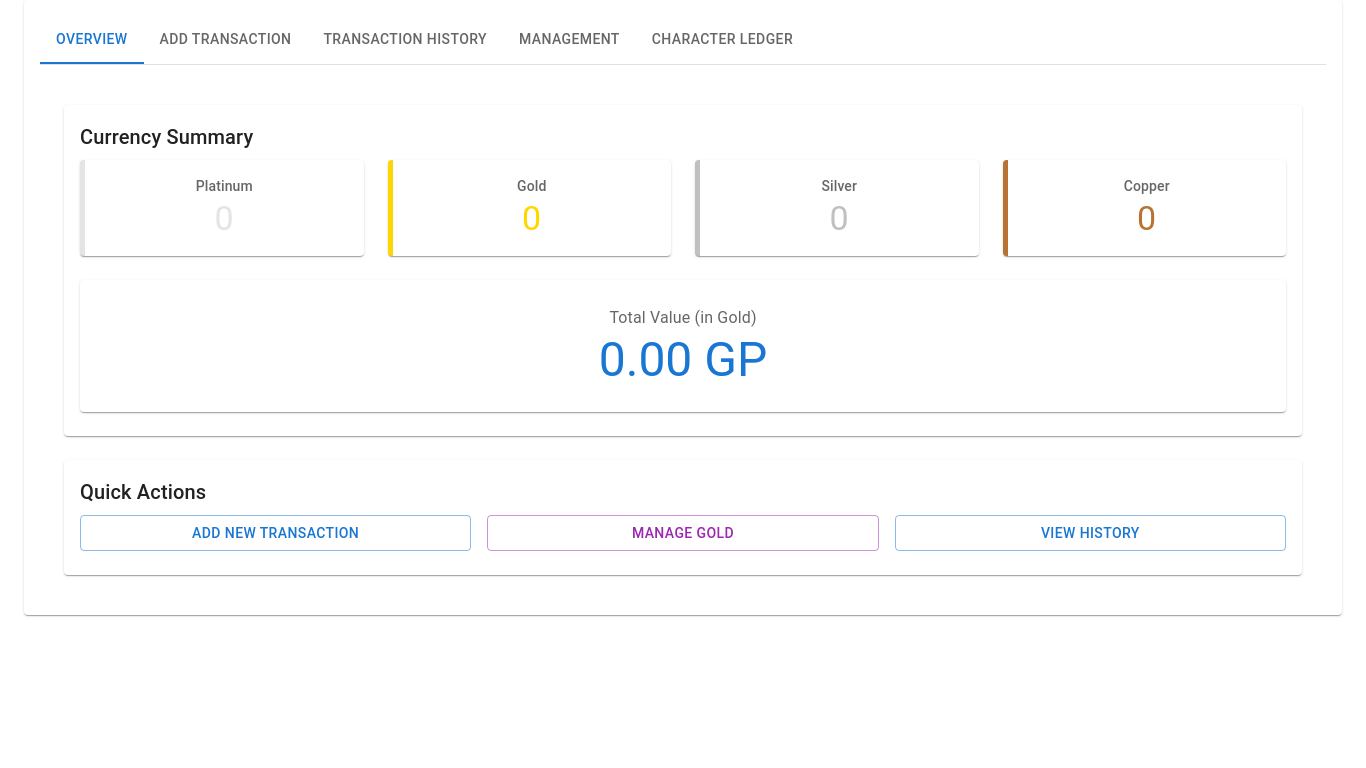
it: GoldTransactions › Character Ledger tab › shows the loot value, payments, withdrawn and balance from the ledger
The image size is (1366, 768).
Click the tab "Character Ledger": (722, 40) [636,16,809,64]
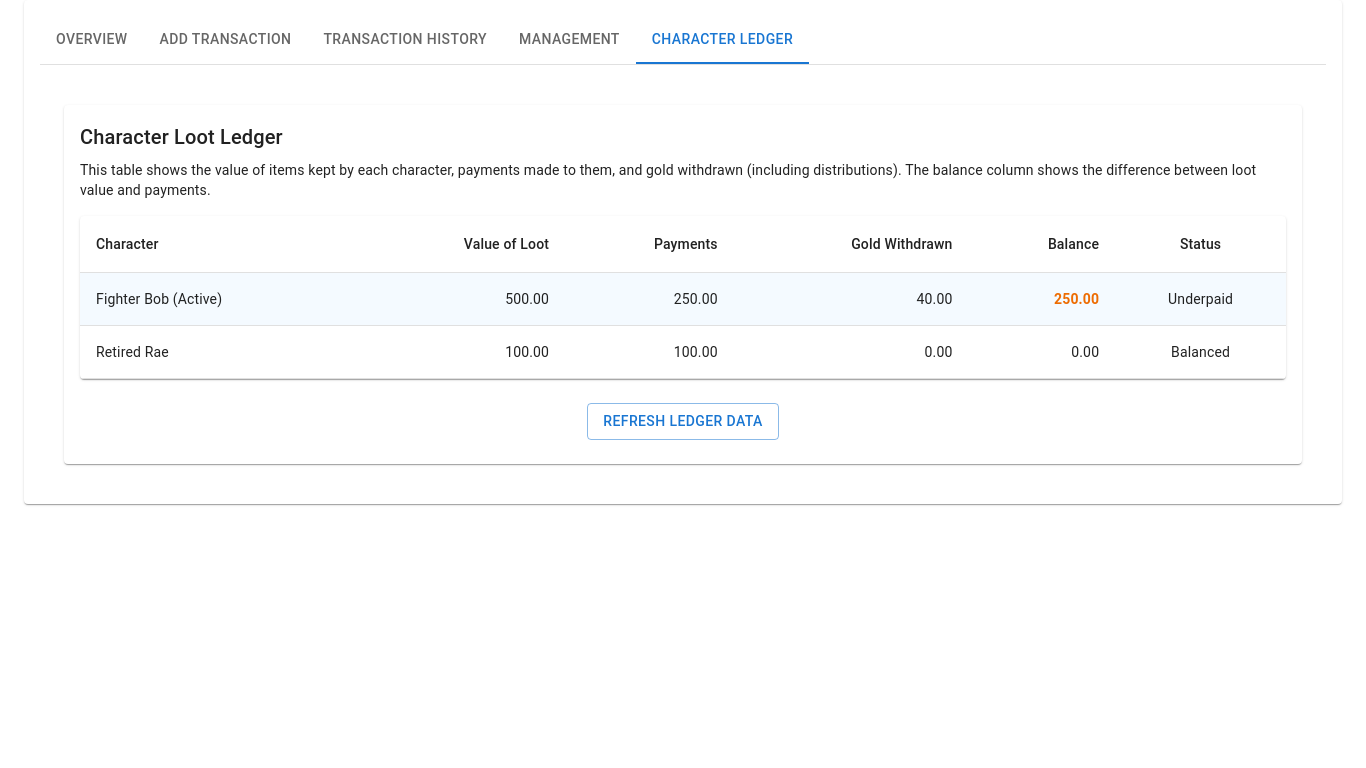
Now the column heading "Fighter Bob (Active)" is shown, box [80,272,359,326]
Now the text "Fighter Bob (Active) 500.00 250.00 40.00 250.00 Underpaid" is shown, box [80,272,1286,326]
Now the text "Retired Rae 100.00 100.00 0.00 0.00 Balanced" is shown, box [80,326,1286,378]
